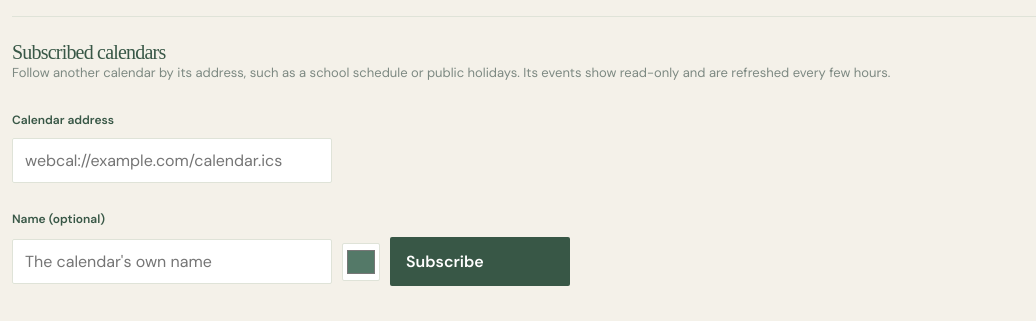
Test: SubscriptionSettings › shows why subscribing failed
Step 1. Type "https://example.com/missing.ics" into the field labelled "Calendar address" → [172, 160], box [12,138,332,183]
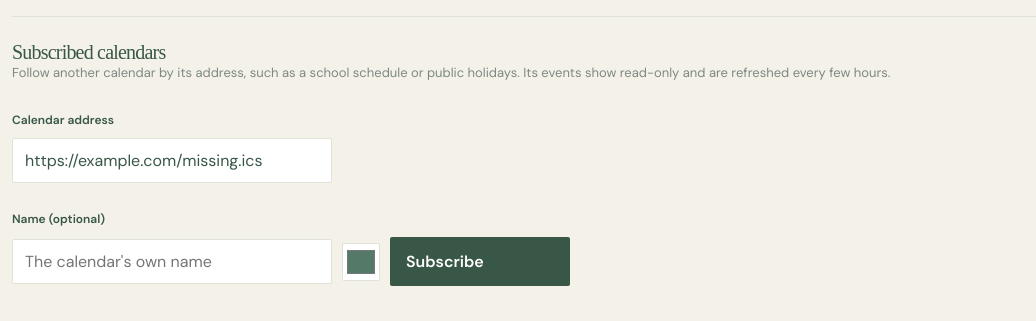
Step 2. Click the button "Subscribe" → [480, 262], box [390,237,570,286]
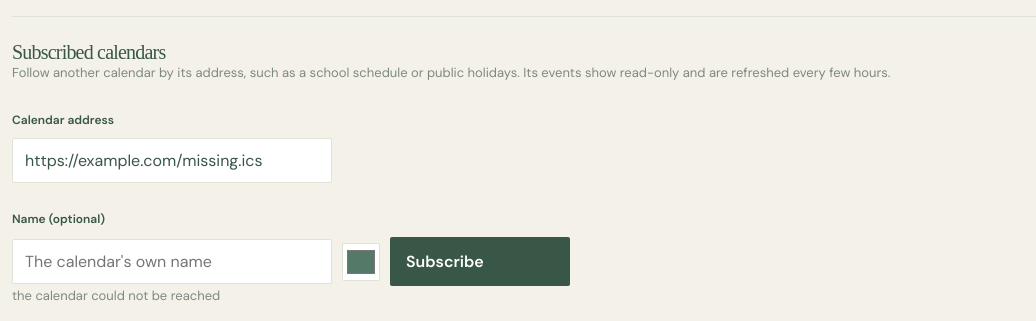
Result: the text "the calendar could not be reached" is shown at [12,287,220,304]
